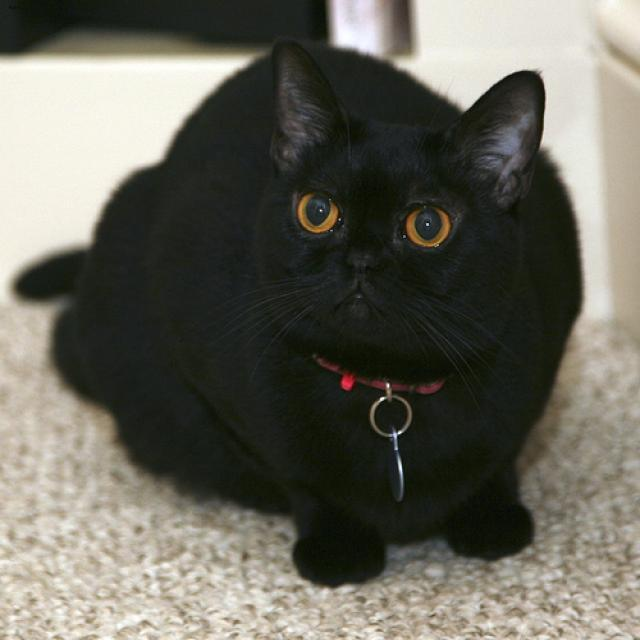Bombay: (259, 39, 543, 342)
